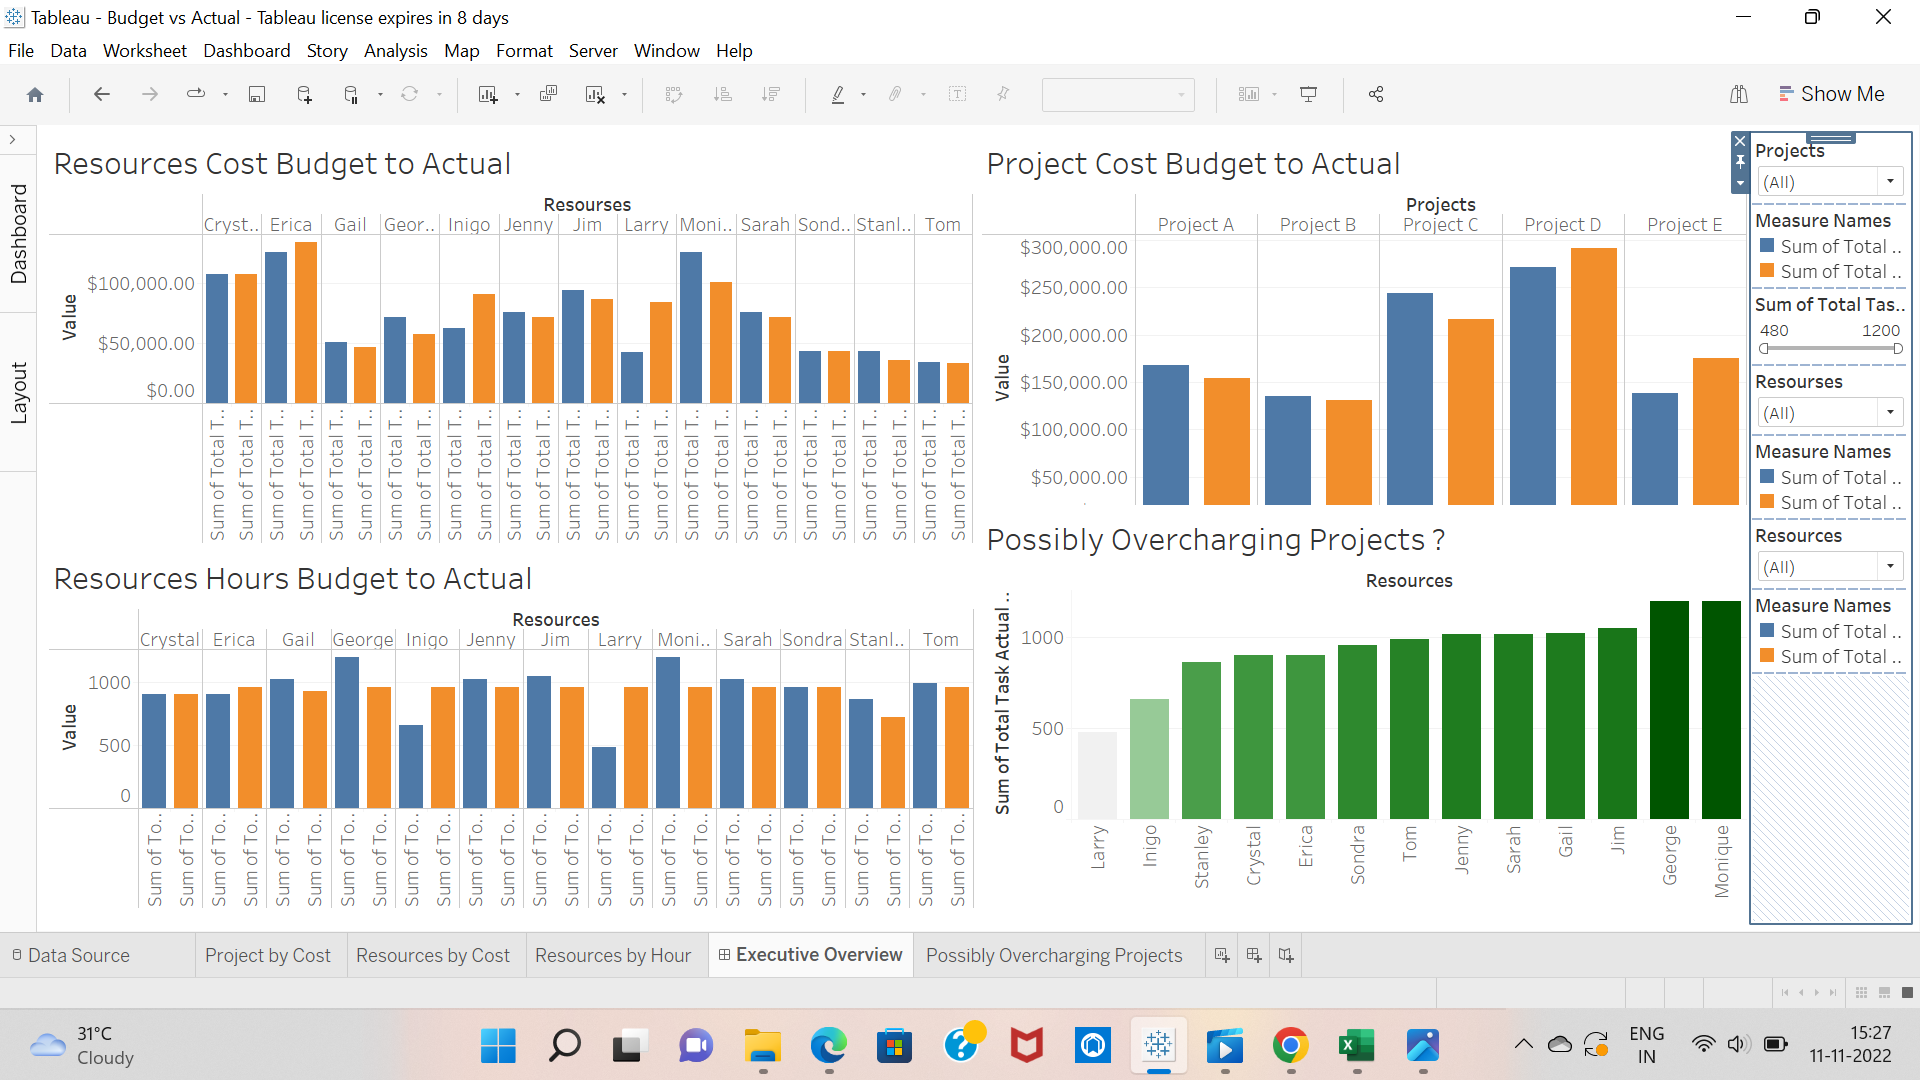

The dashboard page shown, as its layout file describes it:
{"tool":"tableau","page":{"name":"Executive Overview","canvas":[1000,1000],"units":"permille","ordinal":0},"visuals":[{"type":"worksheet","title":"Resources by Cost","mark":"Automatic","cols":["Resourses"],"box":[4.2,9.9,495.8,514.9]},{"type":"worksheet","title":"Project by Cost","mark":"Automatic","cols":["Projects"],"box":[500,9.9,410.7,543.4]},{"type":"filter","title":"Project by Cost","param":"[federated.06d3i3w1fwda911h5mtkv1hsc7s0].[none:Projects:nk]","box":[910.7,9.9,85,86.9]},{"type":"legend","title":"Project by Cost","param":"[federated.06d3i3w1fwda911h5mtkv1hsc7s0].[:Measure Names]","box":[910.7,96.8,85,104.2]},{"type":"filter","title":" Possibly Overcharging Projects","param":"[federated.1ayp7u00aetmgj14o6bwz1nvvrwk].[none:Sum of Total Task Actual Hours:qk","box":[910.7,201,85,95.5]},{"type":"filter","title":"Resources by Cost","param":"[federated.1bd7mtp0f6qje91exhbbv0wq2a99].[none:Resourses:nk]","box":[910.7,296.5,85,86.9]},{"type":"legend","title":"Resources by Cost","param":"[federated.1bd7mtp0f6qje91exhbbv0wq2a99].[:Measure Names]","box":[910.7,383.4,85,104.2]},{"type":"filter","title":"Resources by Hour","param":"[federated.08yjs991fyttxm124oqxl165dl61].[none:Resources:nk]","box":[910.7,487.6,85,86.9]},{"type":"worksheet","title":"Resources by Hour","mark":"Automatic","cols":["Resources"],"box":[4.2,524.8,495.8,465.3]},{"type":"worksheet","title":" Possibly Overcharging Projects","mark":"Automatic","rows":["Sum of Total Task Actual Hours"],"cols":["Resources"],"box":[500,553.4,410.7,436.7]},{"type":"legend","title":"Resources by Hour","param":"[federated.08yjs991fyttxm124oqxl165dl61].[:Measure Names]","box":[910.7,574.5,85,104.2]}]}

Visuals, with their boxes on the dashboard's canvas, which has no fixed pixel size, in thousandths of its width and height (x1, y1, x2, y2). These are canvas units, not pixel positions in the 1920x1080 screenshot, which may show the page scaled, cropped or inside an application window:
"Resources by Cost" worksheet: box=[4, 10, 500, 525]
"Project by Cost" worksheet: box=[500, 10, 911, 553]
"Project by Cost" filter: box=[911, 10, 996, 97]
"Project by Cost" legend: box=[911, 97, 996, 201]
" Possibly Overcharging Projects" filter: box=[911, 201, 996, 296]
"Resources by Cost" filter: box=[911, 296, 996, 383]
"Resources by Cost" legend: box=[911, 383, 996, 488]
"Resources by Hour" filter: box=[911, 488, 996, 574]
"Resources by Hour" worksheet: box=[4, 525, 500, 990]
" Possibly Overcharging Projects" worksheet: box=[500, 553, 911, 990]
"Resources by Hour" legend: box=[911, 574, 996, 679]
